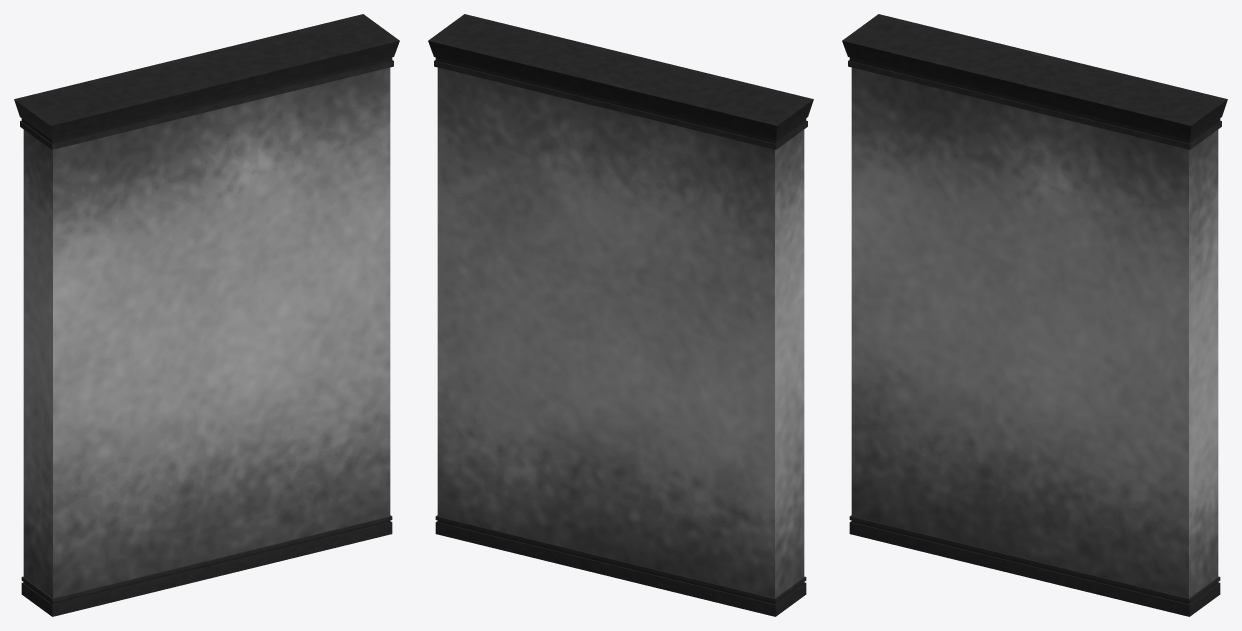
File: Wall.FBX
3 views of the same model, side by side, from view 1: azimuth 30°, elevation 25°; view 2: azimuth 150°, elevation 25°; view 3: azimuth 330°, elevation 25° (orthographic).
Visible parts, largest first — view 1: Wall; view 2: Wall; view 3: Wall.
Part boxes in pixels (left/top/right/bottom): Wall: left=14, top=14, right=399, bottom=616; Wall: left=428, top=14, right=813, bottom=616; Wall: left=842, top=14, right=1227, bottom=616.
Bounding box in the file's own units: 207 × 280 × 37.59.
